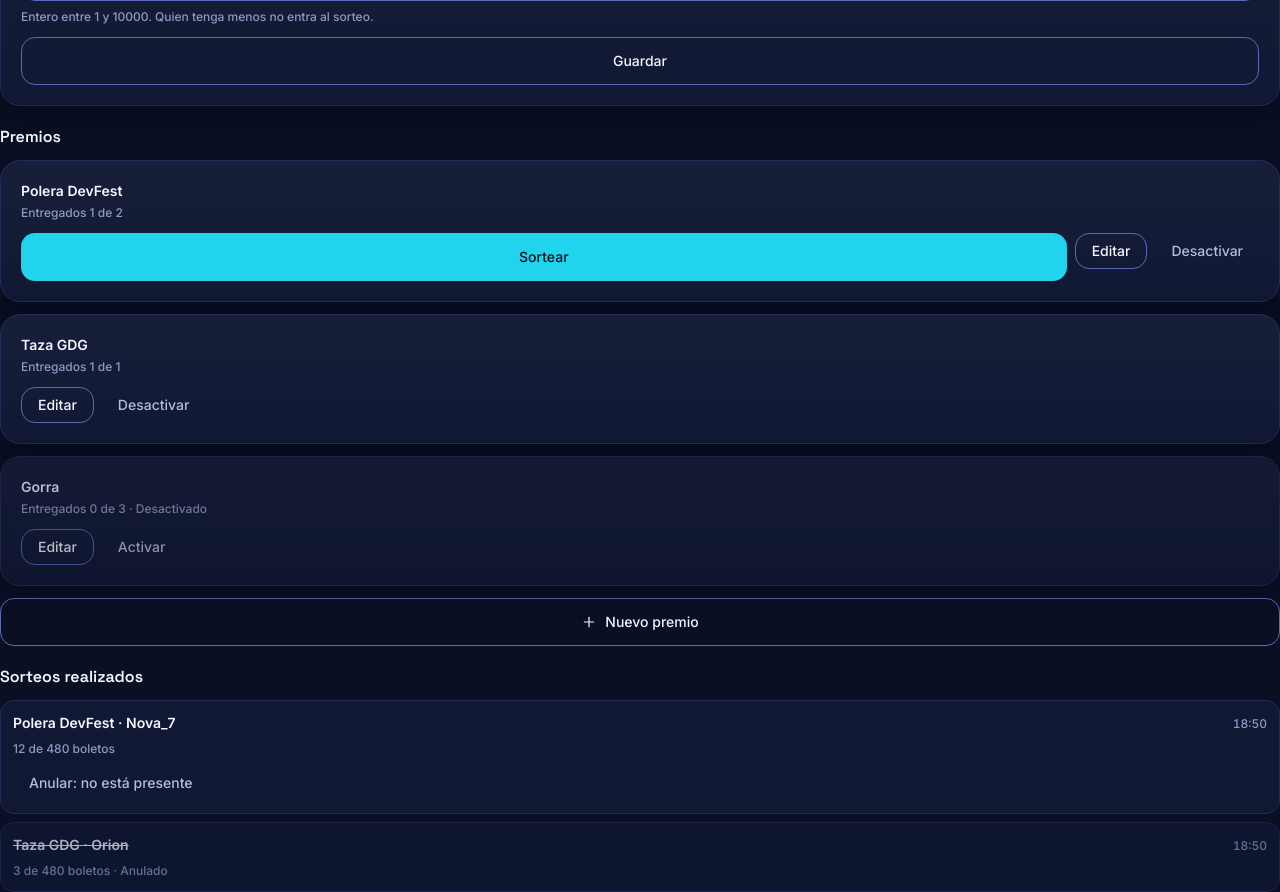
RaffleAdminView › keeps the prize form open when it is refused
(page scrolled)
Click the button "Nuevo premio" at (640, 622), box [0, 598, 1279, 646]
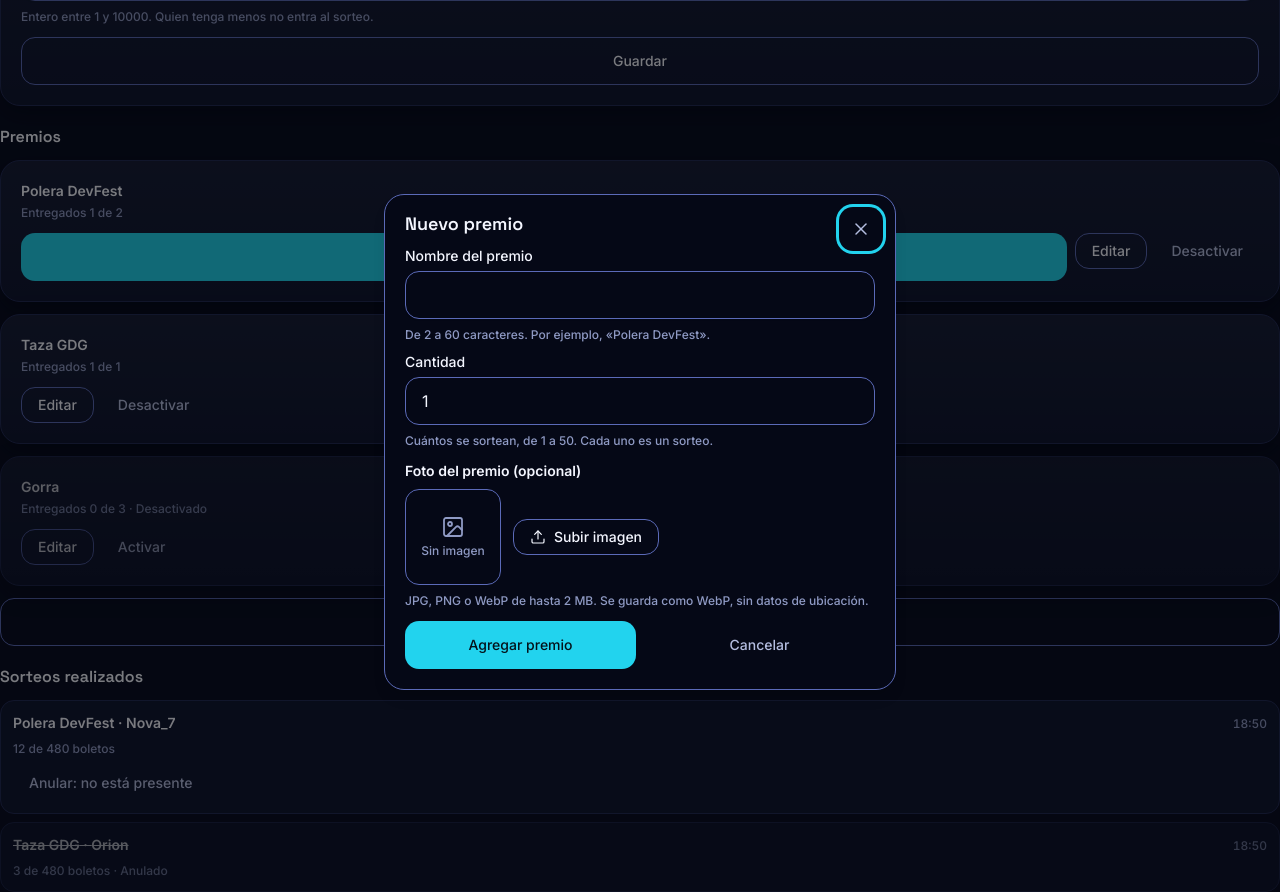
Click the button "Agregar premio" at (520, 645), box [405, 621, 636, 669]
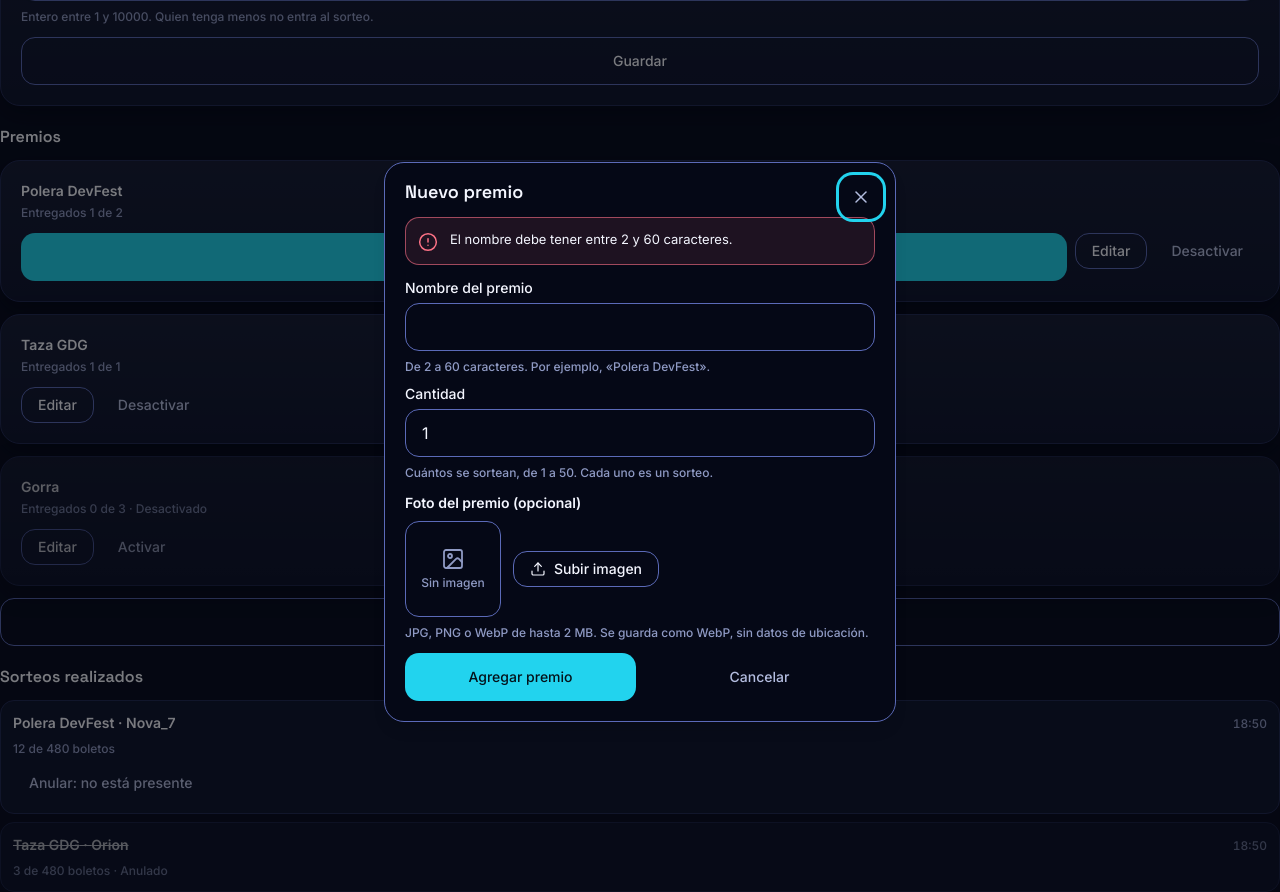
Expected: the field labelled "Nombre del premio" is shown, [405, 303, 875, 351]
Expected: the text "El nombre debe tener entre 2 y 60 caracteres." is shown, [450, 230, 732, 248]
